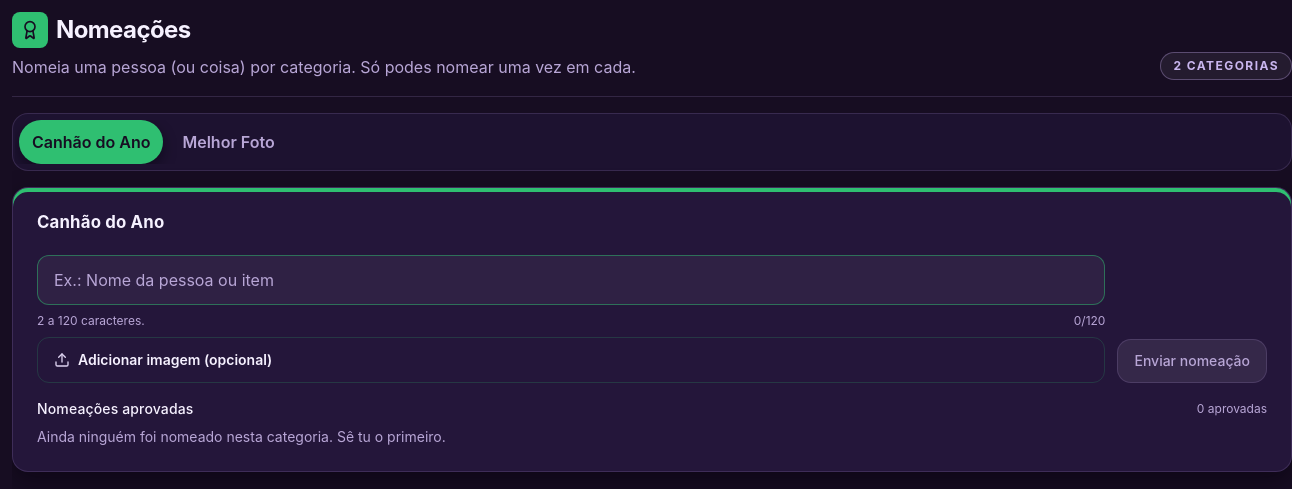
Test case: CanhoesNominationsModule › sends a nomination and shows it as pending
The width and height of the screenshot is (1292, 489).
Type " Rui " into the field with placeholder "Ex.: Nome da pessoa ou item" at (571, 280), box 37,254 -> 1105,304
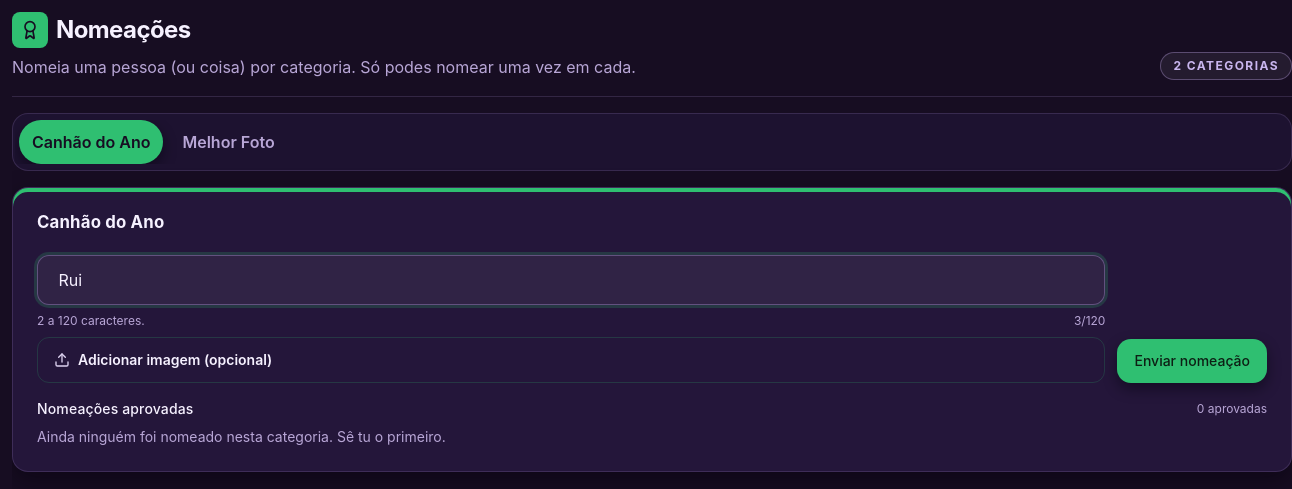
Click the button "Enviar nomeação" at (1192, 360), box 1117,338 -> 1267,382
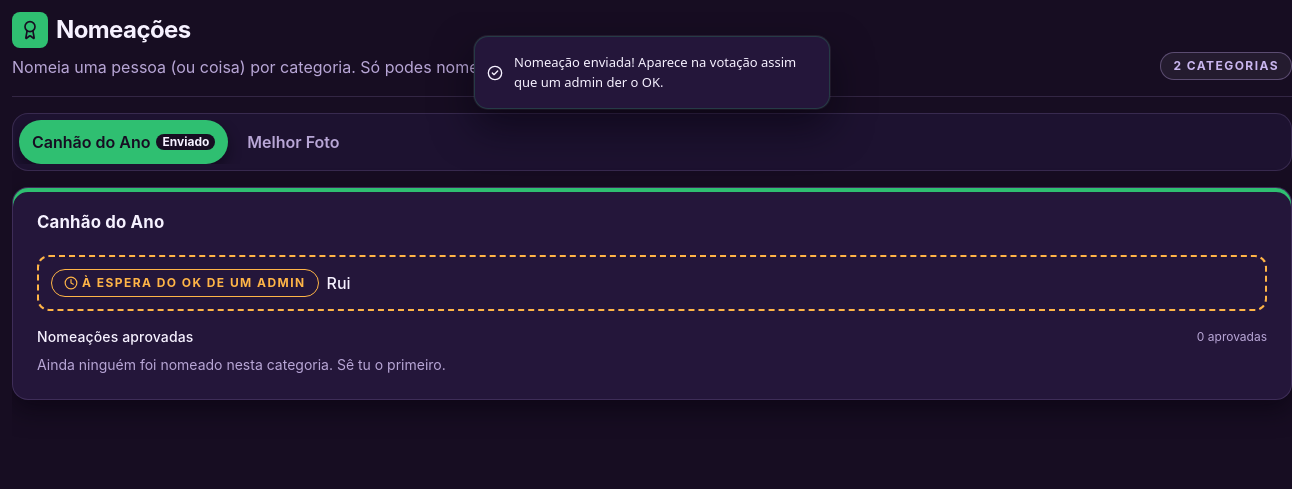
Expected: the text "Nomeação enviada! Aparece na votação assim que um admin der o OK." is shown, 514,53 -> 813,92
Expected: the text "À espera do OK de um admin" is shown, 51,268 -> 318,296
Expected: the text "Enviado" is shown, 156,134 -> 215,150
